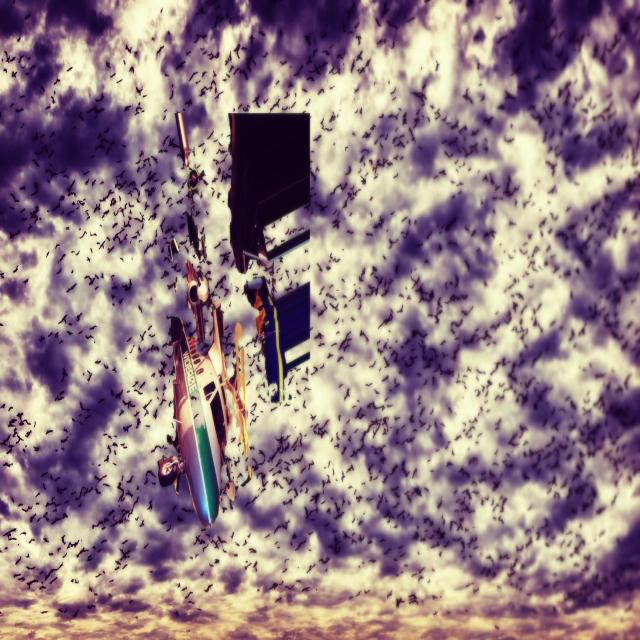airplane: (157, 111, 310, 530)
